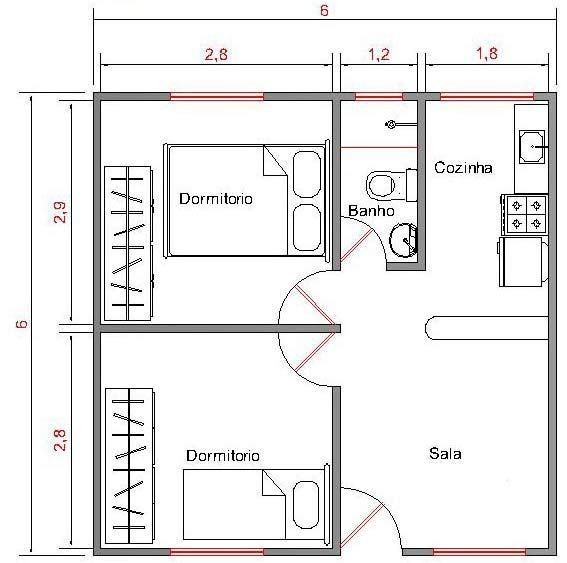door: (268, 332, 342, 393), (274, 268, 350, 327), (341, 487, 403, 554), (336, 211, 390, 272)
room: (332, 260, 567, 558), (87, 81, 344, 324), (93, 322, 352, 555), (329, 87, 558, 275), (331, 101, 433, 281)
wall: (535, 94, 565, 563), (87, 85, 103, 557), (100, 316, 348, 342), (327, 384, 347, 556), (327, 98, 347, 267), (413, 84, 429, 279), (262, 89, 360, 109), (97, 84, 171, 107), (263, 543, 331, 563), (103, 542, 174, 558), (406, 88, 444, 104), (385, 260, 417, 276)
window: (162, 538, 267, 563), (167, 86, 266, 112), (440, 85, 537, 110), (420, 541, 540, 559), (350, 83, 406, 107)
